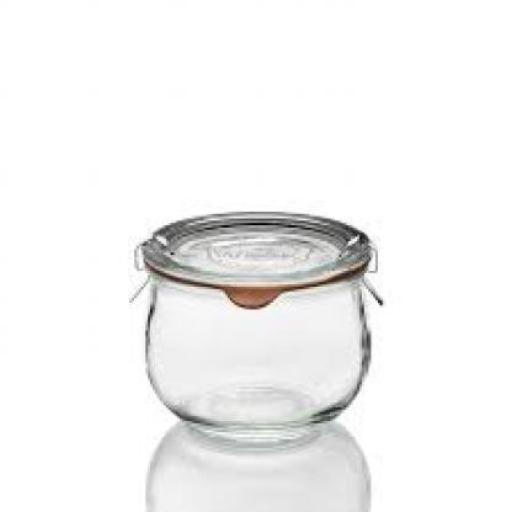glass: (139, 209, 371, 442)
